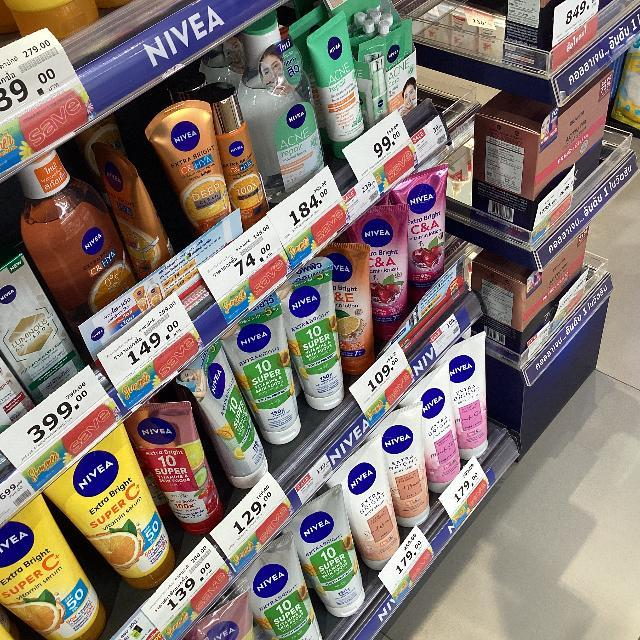Squeeze Tube: (0, 120, 461, 639), (160, 296, 523, 639)
